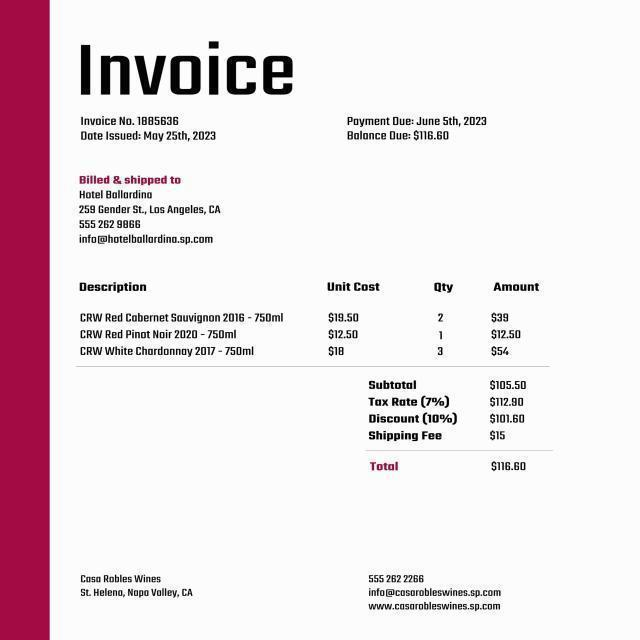paragraph: (361, 368, 567, 485), (66, 159, 247, 248), (61, 38, 311, 101), (341, 564, 508, 627), (341, 103, 505, 163), (74, 554, 215, 616), (69, 109, 234, 149)
table: (63, 267, 583, 359)
